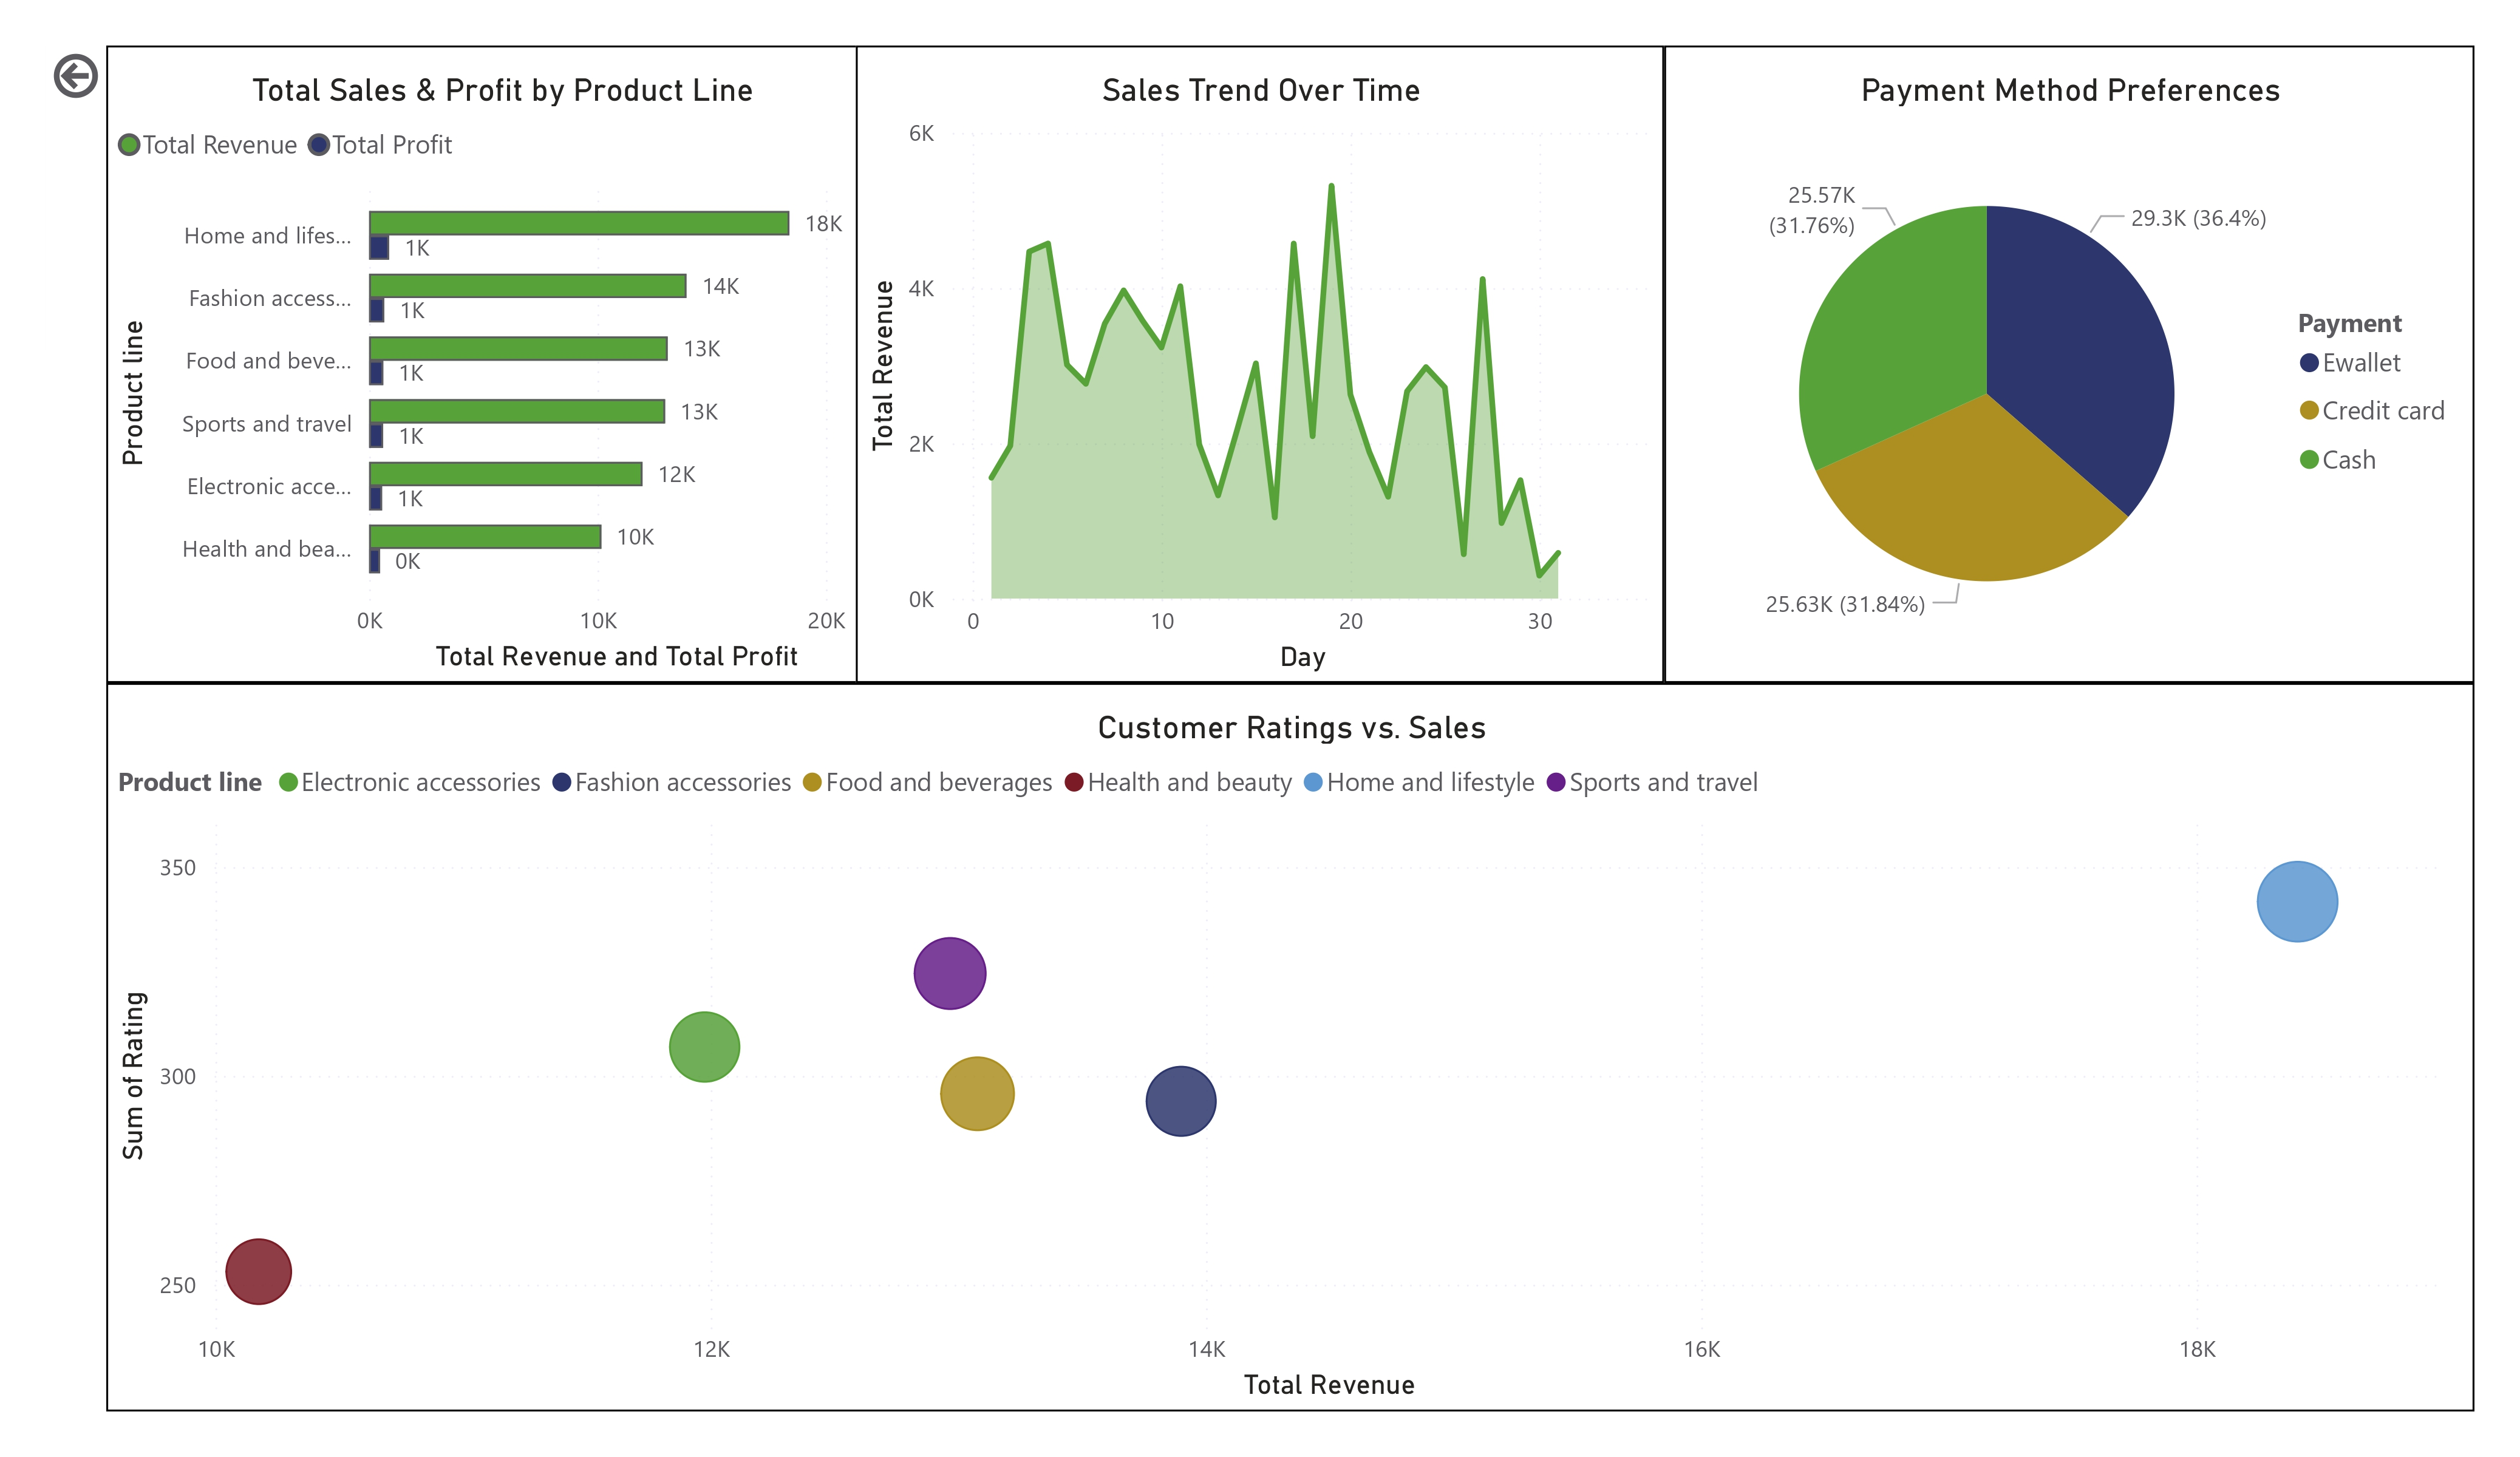

Layout of this report page (visuals, bound fields, positions):
{"tool":"powerbi","page":{"name":"Branch Insights","canvas":[1280,720],"ordinal":1},"visuals":[{"type":"actionButton","box":[0,0,32,32],"z":0},{"type":"clusteredBarChart","title":"Total Sales & Profit by Product Line","fields":{"Category":["supermarket_sales.Product line"],"Y":["supermarket_sales.Total Revenue","supermarket_sales.Total Profit"]},"box":[32,0,416,336],"z":1000},{"type":"pieChart","title":"Payment Method Preferences","fields":{"Category":["supermarket_sales.Payment"],"Y":["supermarket_sales.Total Revenue"]},"box":[853.3,0,426.7,336],"z":2000},{"type":"scatterChart","title":"Customer Ratings vs. Sales","fields":{"X":["supermarket_sales.Total Revenue"],"Y":["Sum(supermarket_sales.Rating)"],"Size":["Sum(supermarket_sales.Quantity)"],"Series":["supermarket_sales.Product line"]},"box":[32,336,1248,384],"z":3000},{"type":"lineChart","title":"Sales Trend Over Time","fields":{"Y":["supermarket_sales.Total Revenue"],"Category":["supermarket_sales.Day"]},"box":[426.7,0,426.7,336],"z":4000}]}

Visuals, with their boxes in screenshot pixels (x1, y1, x2, y2):
actionButton: box(52, 46, 112, 106)
"Total Sales & Profit by Product Line" clusteredBarChart: box(112, 46, 891, 675)
"Payment Method Preferences" pieChart: box(1650, 46, 2450, 675)
"Customer Ratings vs. Sales" scatterChart: box(112, 675, 2450, 1394)
"Sales Trend Over Time" lineChart: box(851, 46, 1650, 675)
